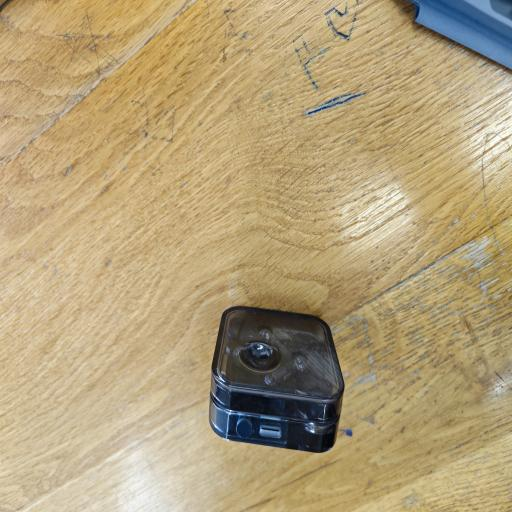CASTI: (205, 308, 348, 453)
